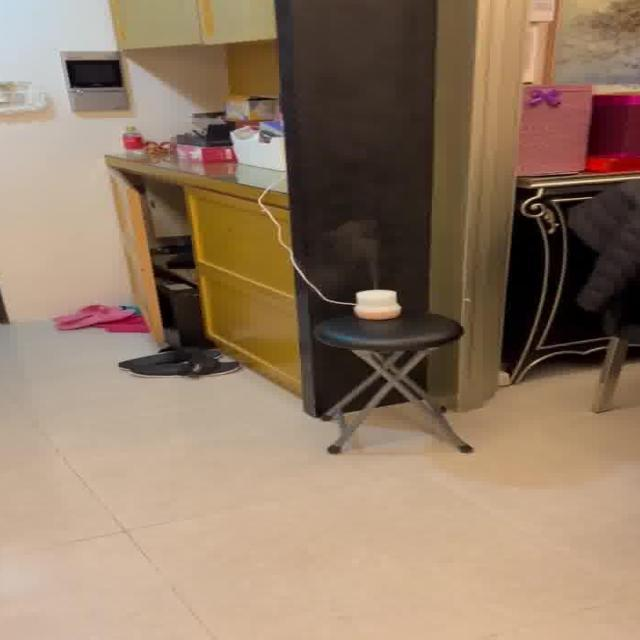fire: (328, 218, 394, 282)
